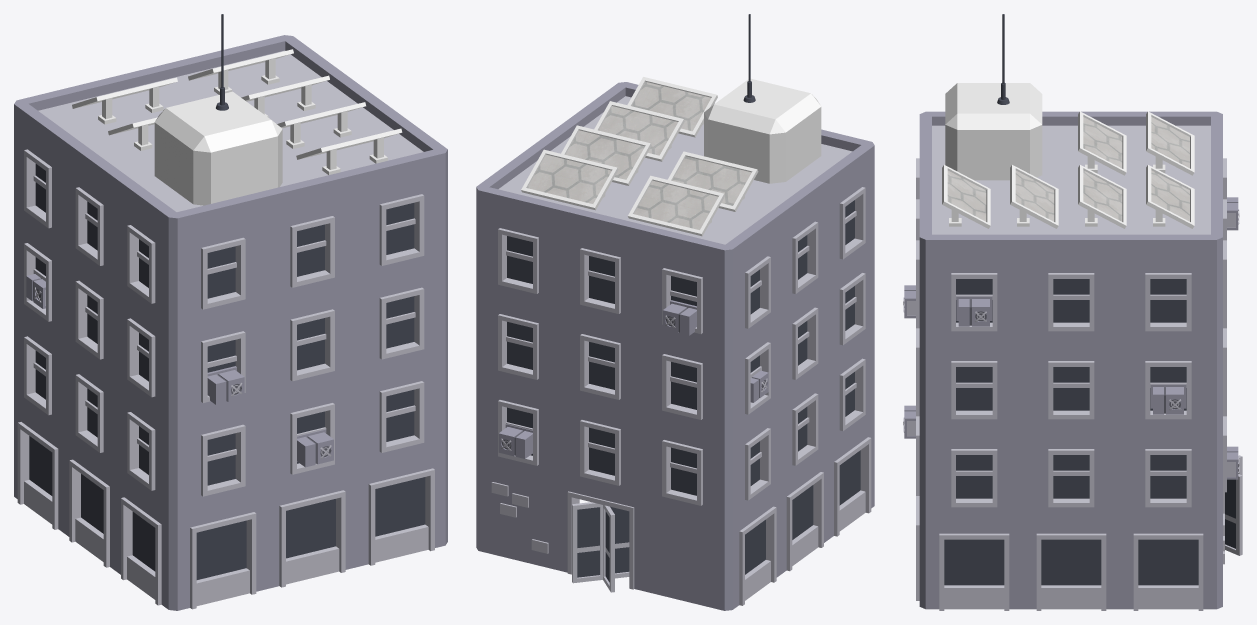
File: office_2.fbx
3 renders of one model, left to right at view 1: azimuth 30°, elevation 25°; view 2: azimuth 150°, elevation 25°; view 3: azimuth 270°, elevation 25°, orthographic. The views are drawn at different scales.
Visible parts, largest first — view 1: block_rounded_479, wall_window_465, wall_window_453, wall_windowStore_240, wall_windowStore_241, wall_windowStore_242, wall_window_253, wall_window_255, wall_window_463, wall_window_452, wall_window_464, wall_window_254 (+29 smaller); view 2: block_rounded_479, wall_window_246, wall_window_447, wall_window_445, wall_window_457, wall_doorRevolving_231, wall_window_245, wall_window_458, wall_straight_256, wall_window_446, wall_window_459, wall_straight_257 (+31 smaller); view 3: wall_windowStore_234, wall_window_247, wall_windowStore_232, block_rounded_479, wall_window_454, wall_windowStore_233, wall_window_248, wall_window_249, wall_window_455, wall_window_467, wall_window_468, wall_window_466 (+24 smaller).
Boxes of the visible parts, x1,y1,x2,y2 form: block_rounded_479: [154, 91, 282, 205]; wall_window_465: [356, 168, 447, 286]; wall_window_453: [356, 262, 447, 380]; wall_windowStore_240: [177, 495, 266, 610]; wall_windowStore_241: [356, 452, 445, 567]; wall_windowStore_242: [267, 474, 356, 588]; wall_window_253: [177, 402, 266, 517]; wall_window_255: [356, 358, 445, 473]; wall_window_463: [177, 215, 266, 330]; wall_window_452: [267, 287, 356, 401]; wall_window_464: [267, 193, 356, 308]; wall_window_254: [267, 380, 356, 495]; block_rounded_479: [704, 78, 821, 183]; wall_window_246: [642, 419, 732, 524]; wall_window_447: [642, 333, 732, 439]; wall_window_445: [476, 290, 560, 398]; wall_window_457: [476, 204, 560, 312]; wall_doorRevolving_231: [560, 485, 642, 592]; wall_window_245: [560, 399, 642, 504]; wall_window_458: [560, 227, 642, 333]; wall_straight_256: [642, 505, 724, 610]; wall_window_446: [560, 313, 642, 418]; wall_window_459: [642, 247, 732, 353]; wall_straight_257: [478, 465, 560, 570]; wall_windowStore_234: [919, 519, 1022, 610]; wall_window_247: [919, 431, 1022, 521]; wall_windowStore_232: [1120, 519, 1222, 610]; block_rounded_479: [945, 83, 1042, 180]; wall_window_454: [925, 345, 1022, 433]; wall_windowStore_233: [1023, 521, 1119, 610]; wall_window_248: [1023, 433, 1119, 521]; wall_window_249: [1120, 433, 1216, 521]; wall_window_455: [1023, 345, 1119, 433]; wall_window_467: [1023, 257, 1119, 345]; wall_window_468: [1120, 257, 1216, 345]; wall_window_466: [925, 257, 1022, 345].
Size of the model in its own units: 33.61 by 58 by 34.94.
Materials: 7 (1 with a texture image).
